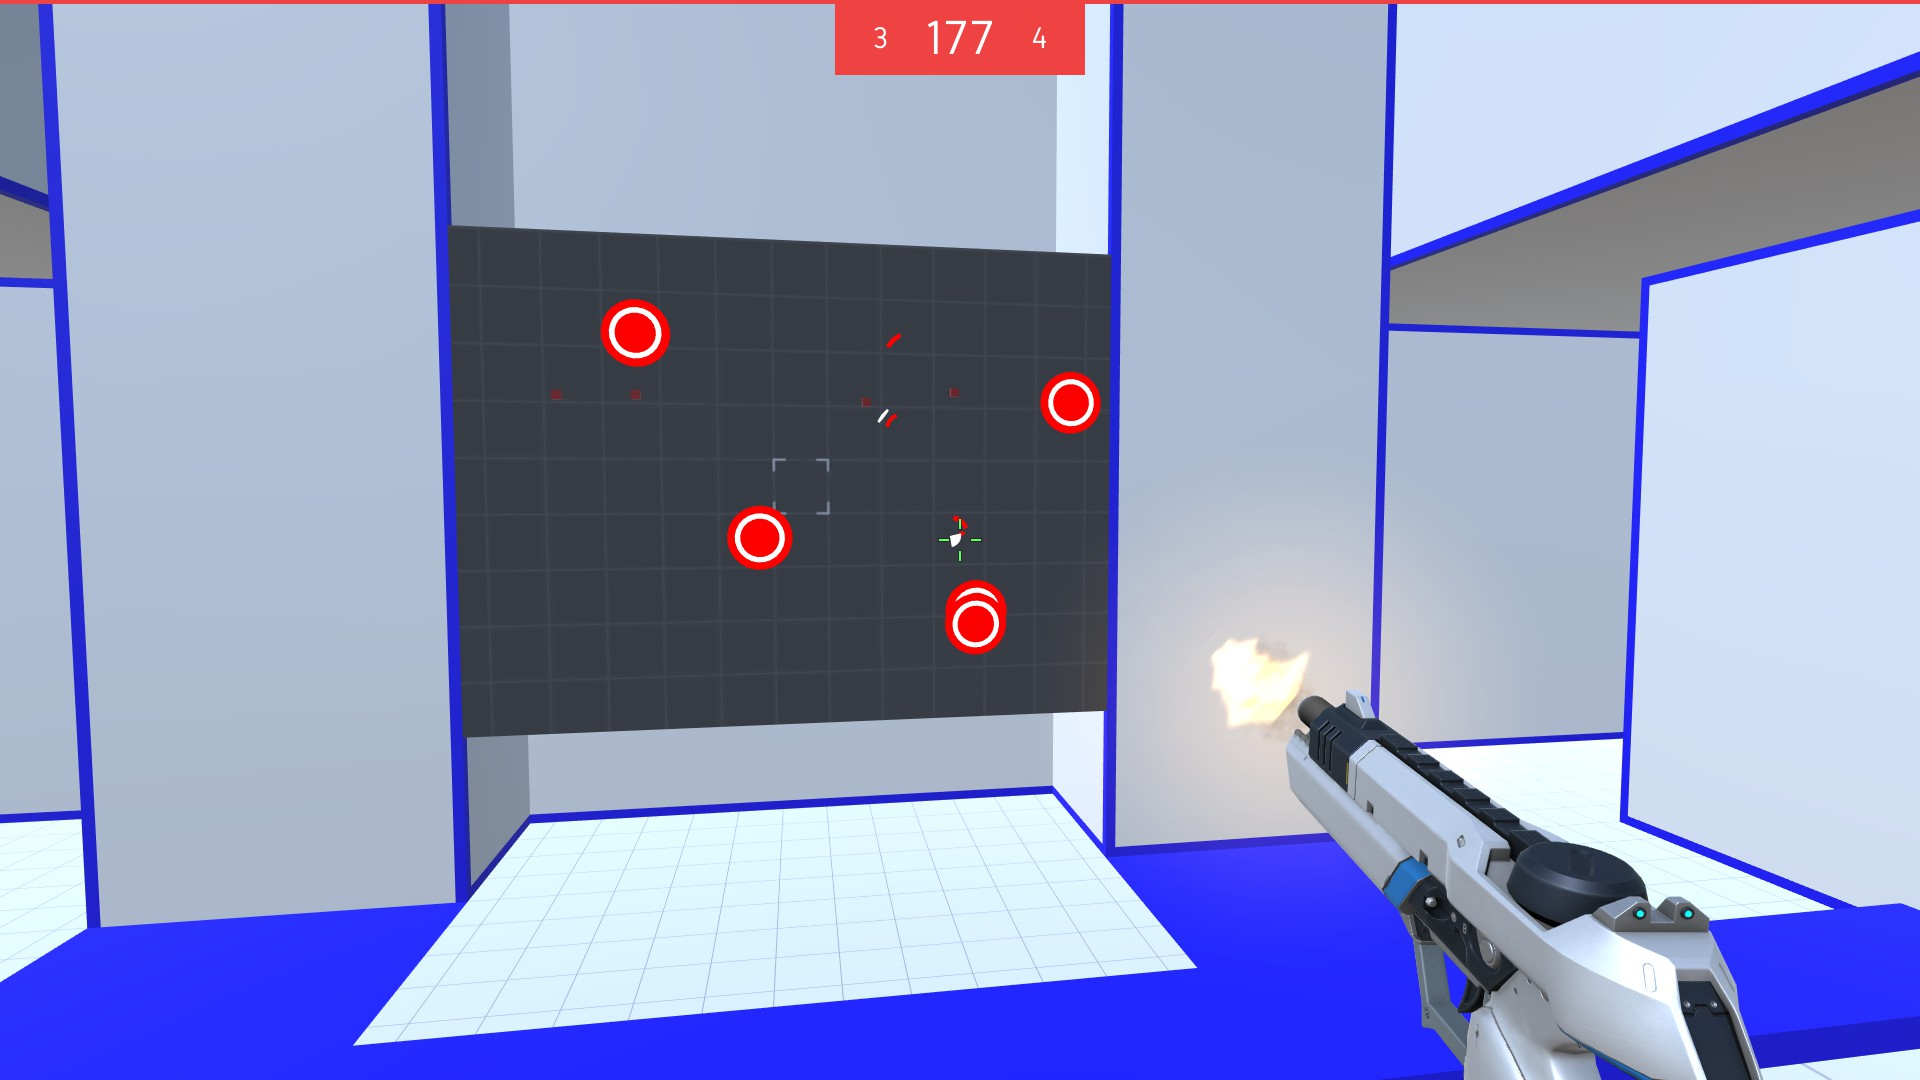target: (597, 294, 673, 375), (723, 502, 799, 574), (1036, 369, 1101, 439), (945, 589, 1010, 655)
